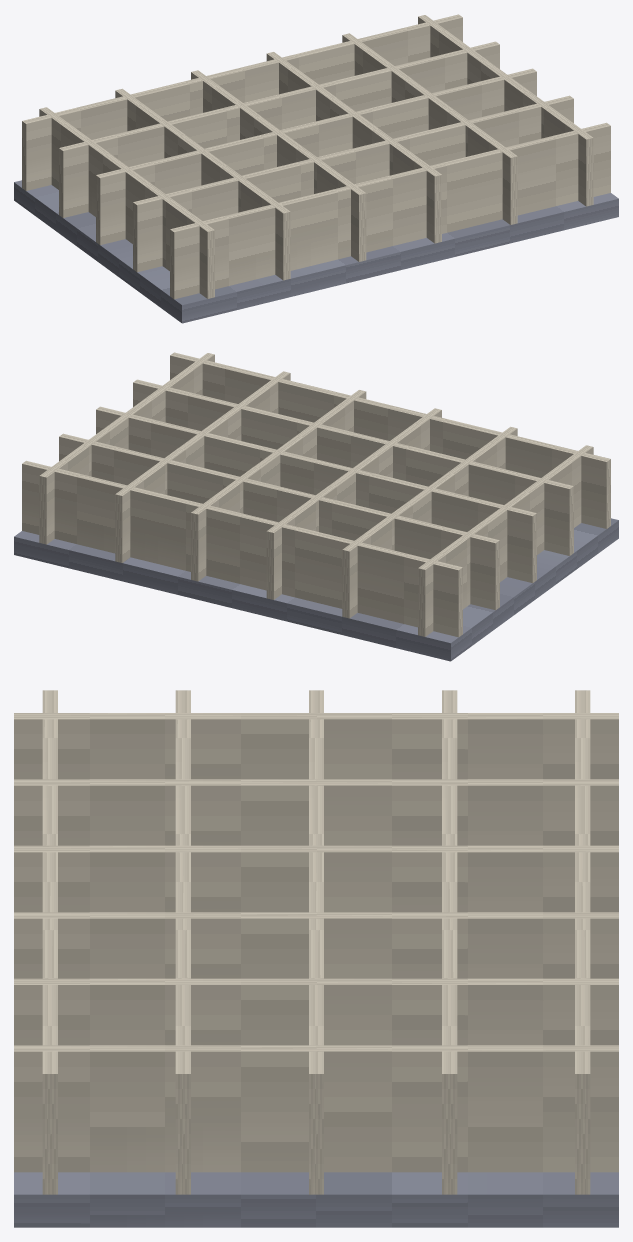
The model's file is cave-and-crystal-networks-boxwork-panel-509e9465.glb.
3 views of the same model, one above another, from view 1: azimuth 30°, elevation 25°; view 2: azimuth 150°, elevation 25°; view 3: azimuth 270°, elevation 25° (orthographic). The views are drawn at different scales.
Parts seen in each view (by area): view 1: boxwork-panel; view 2: boxwork-panel; view 3: boxwork-panel.
Part boxes in pixels (x1,y1,x2,y2): boxwork-panel: [14, 14, 618, 323]; boxwork-panel: [14, 352, 618, 661]; boxwork-panel: [14, 690, 618, 1227].
Bounding box in the file's own units: 1.5 × 0.28 × 1.
Materials: 2 (2 with a texture image).
